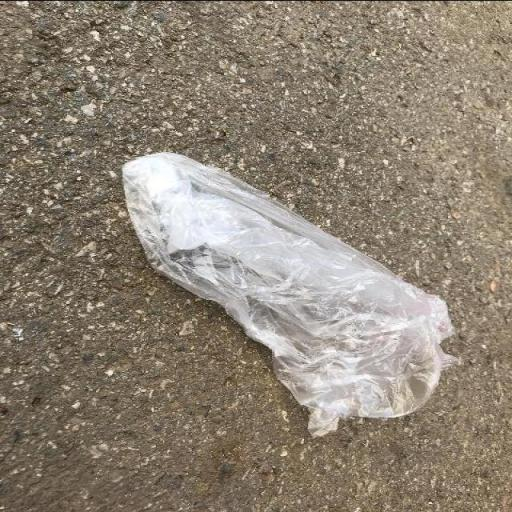plastic-bag: (117, 147, 467, 440)
